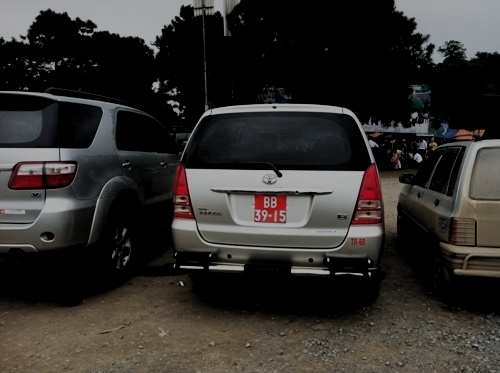plate: (250, 193, 291, 225)
